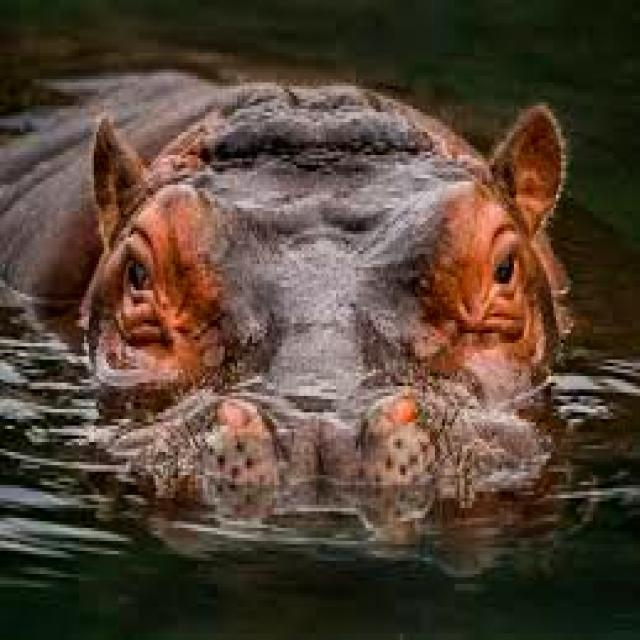hippopotamus: (0, 73, 563, 518)
